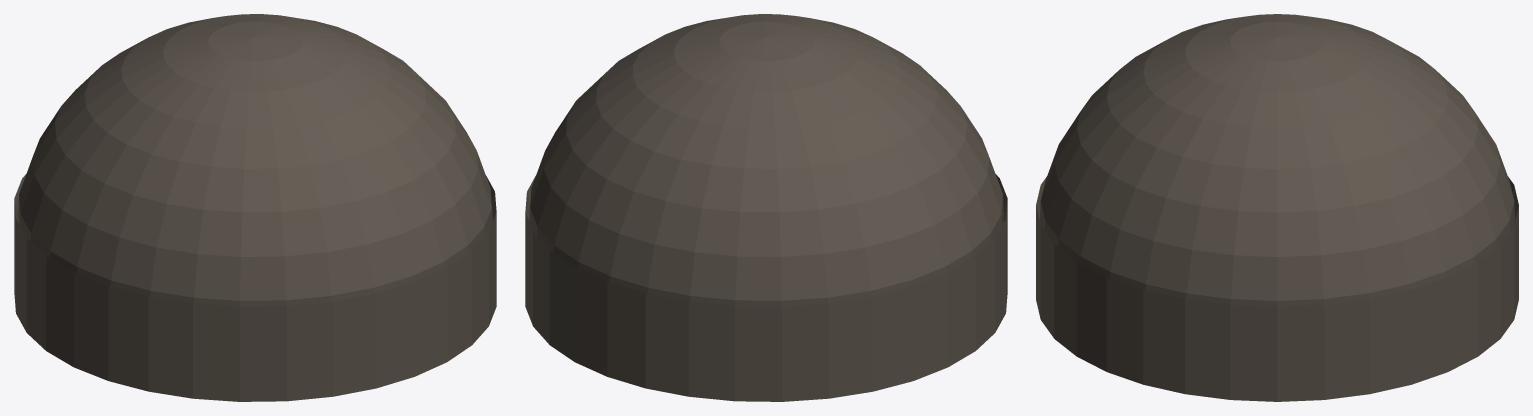
Rendered from stone2.obj.
3 renders of one model, left to right at view 1: azimuth 30°, elevation 25°; view 2: azimuth 150°, elevation 25°; view 3: azimuth 270°, elevation 25°, orthographic.
Visible parts, largest first — view 1: Sphere; view 2: Sphere; view 3: Sphere.
Boxes of the visible parts, x1,y1,x2,y2 form: Sphere: (14,14,496,401); Sphere: (525,14,1007,401); Sphere: (1036,14,1518,401).
Size of the model in its own units: 5.12 by 3.12 by 5.12.
Materials: 1 (1 with a texture image).
